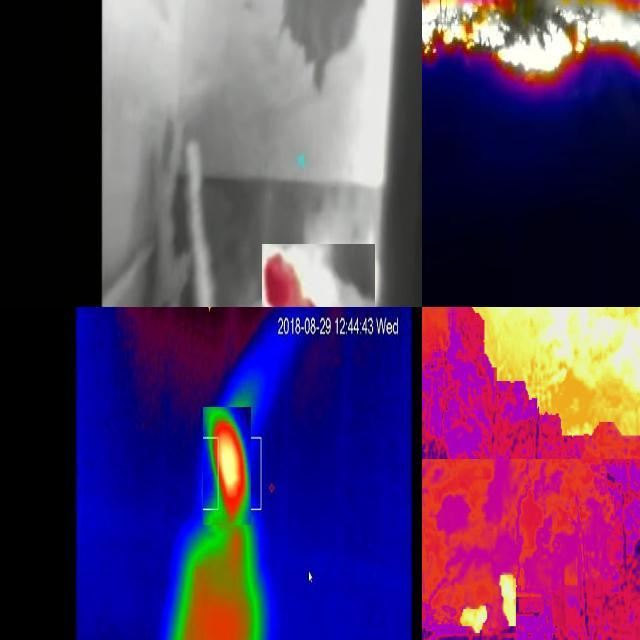fire: (423, 308, 640, 459), (423, 1, 640, 92), (423, 549, 573, 640), (262, 244, 375, 308), (203, 407, 251, 525)
